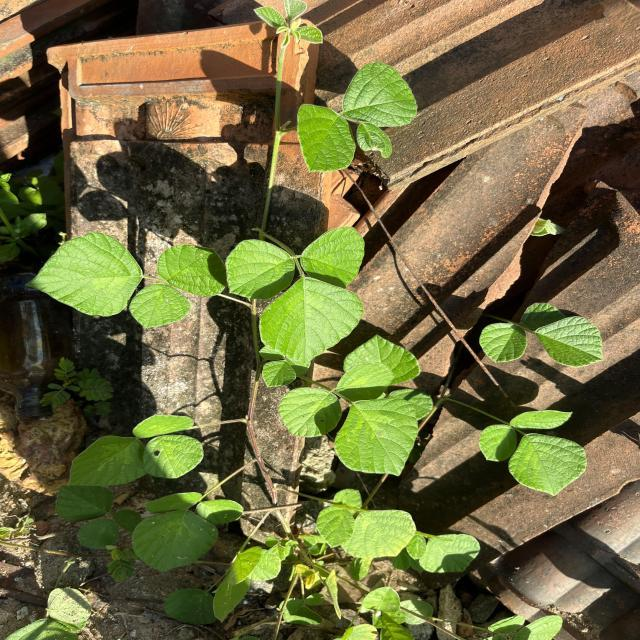Pseudarthria viscida: (222, 224, 366, 369), (23, 230, 226, 331), (278, 360, 420, 478), (66, 413, 206, 487), (477, 408, 588, 496), (478, 302, 606, 368)
